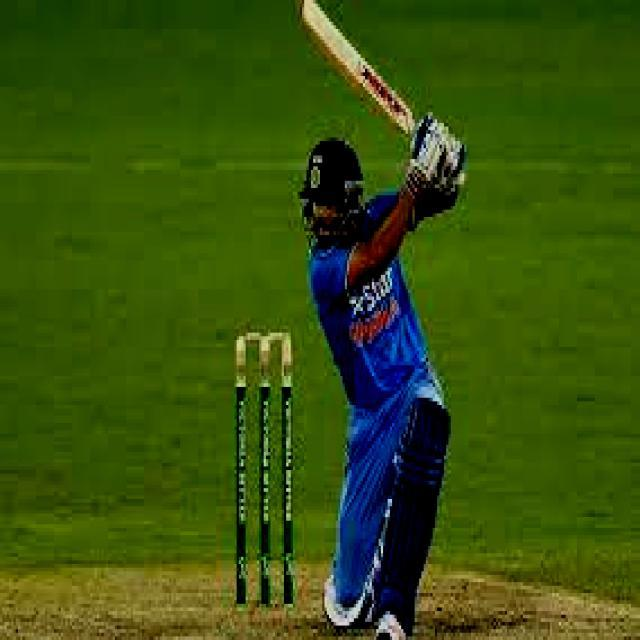bat: (290, 0, 419, 136)
toe: (292, 0, 315, 21)
